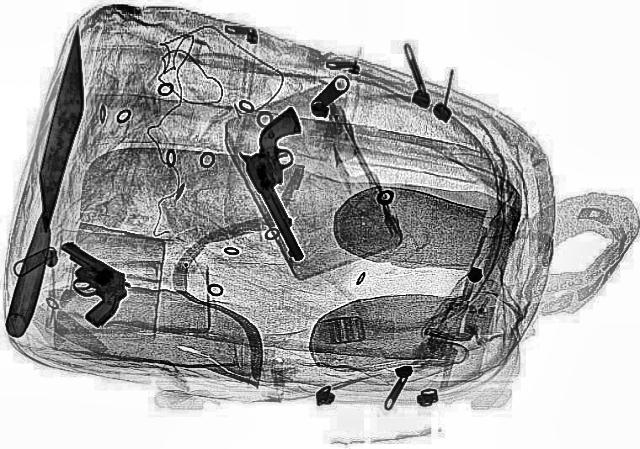Gun: (222, 106, 356, 262), (15, 236, 154, 327)
Knife: (3, 27, 98, 338)
